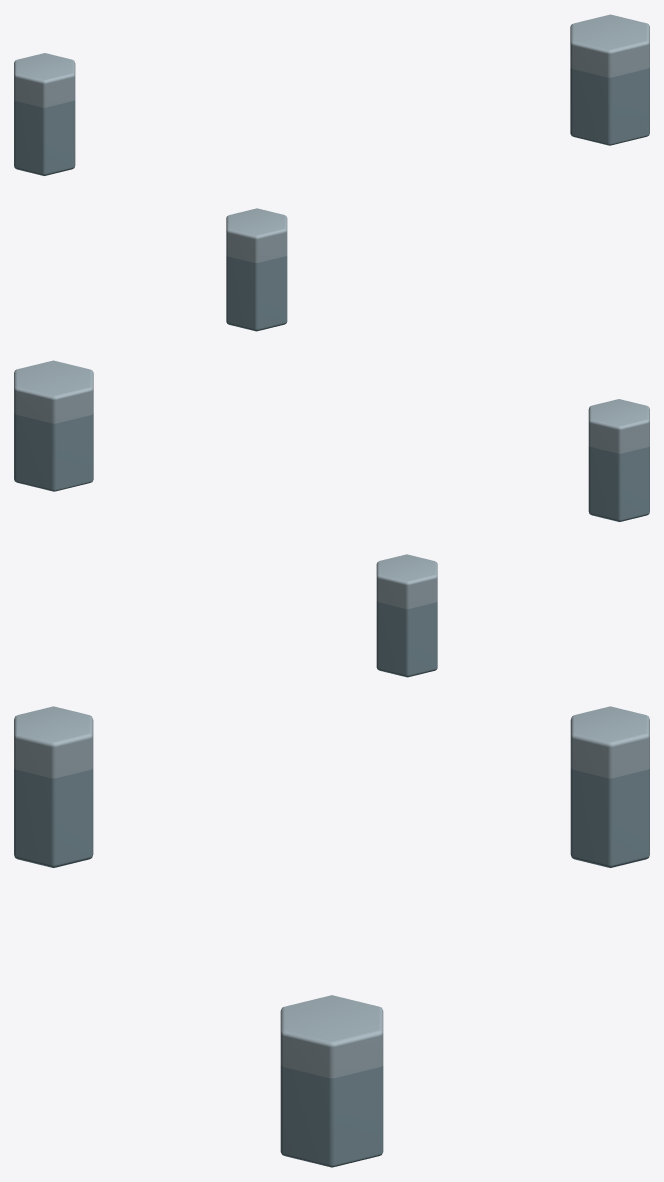
The model's file is Props.fbx.
3 views of the same model, one above another, from view 1: azimuth 30°, elevation 25°; view 2: azimuth 150°, elevation 25°; view 3: azimuth 270°, elevation 25° (orthographic). The views are drawn at different scales.
Parts seen in each view (by area): view 1: 六面体 (×3); view 2: 六面体 (×3); view 3: 六面体 (×3).
Part boxes in pixels (x1,y1,x2,y2): 六面体 (×3): [14, 14, 649, 331]; 六面体 (×3): [14, 360, 649, 677]; 六面体 (×3): [14, 706, 649, 1167].
Bounding box in the file's own units: 28.77 × 5 × 22.85.
Materials: 1 (1 with a texture image).
